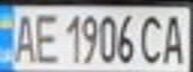0: (97, 10, 118, 64)
1: (60, 10, 81, 64)
6: (115, 10, 139, 64)
9: (78, 10, 100, 64)
A: (6, 9, 39, 64), (160, 10, 190, 65)
C: (136, 10, 166, 65)
E: (30, 9, 60, 64)
